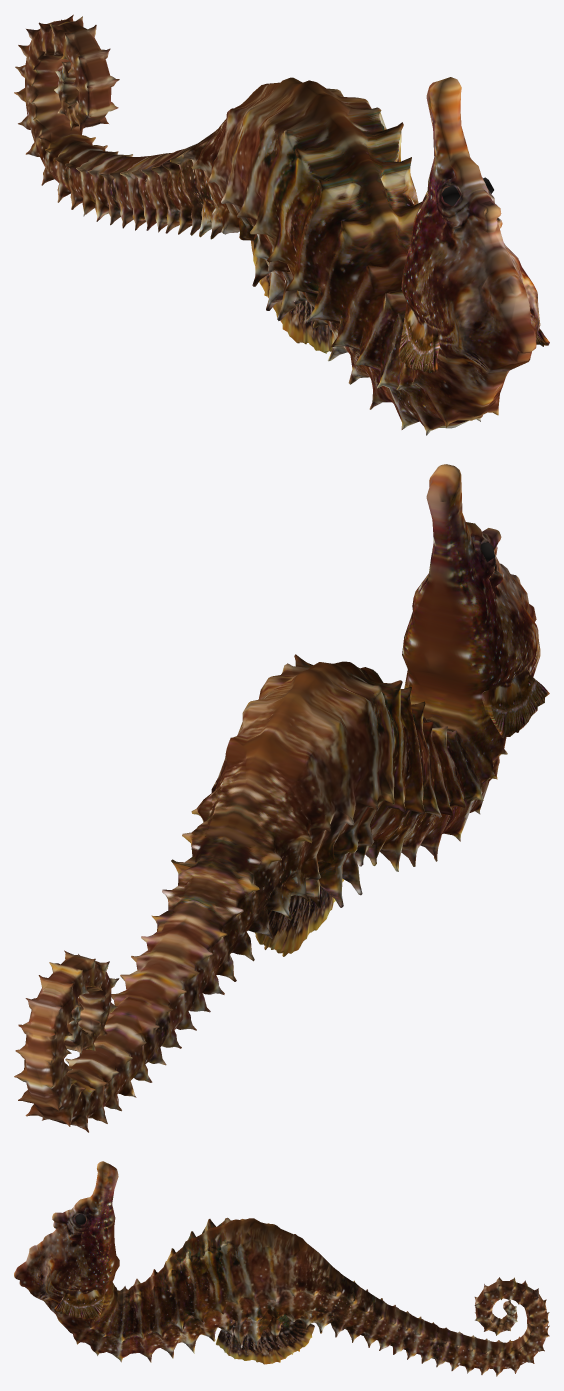
File: sea_horse.obj
The picture shows the model from 3 angles, top to bottom: view 1: azimuth 30°, elevation 25°; view 2: azimuth 150°, elevation 25°; view 3: azimuth 270°, elevation 25°; orthographic projection. The views are drawn at different scales.
Visible parts, largest first — view 1: SeHoBody, SeHoLeFi; view 2: SeHoBody, SeHoLeFi; view 3: SeHoBody, SeHoRiFi.
Part boxes in pixels (<box>): SeHoBody: <box>14,14,540,435</box>; SeHoLeFi: <box>398,302,439,373</box>; SeHoBody: <box>14,464,540,1132</box>; SeHoLeFi: <box>481,666,549,738</box>; SeHoBody: <box>14,1161,549,1376</box>; SeHoRiFi: <box>54,1288,105,1319</box>.
Size of the model in its own units: 63.13 by 161 by 375.
3 materials, 2 textured.
